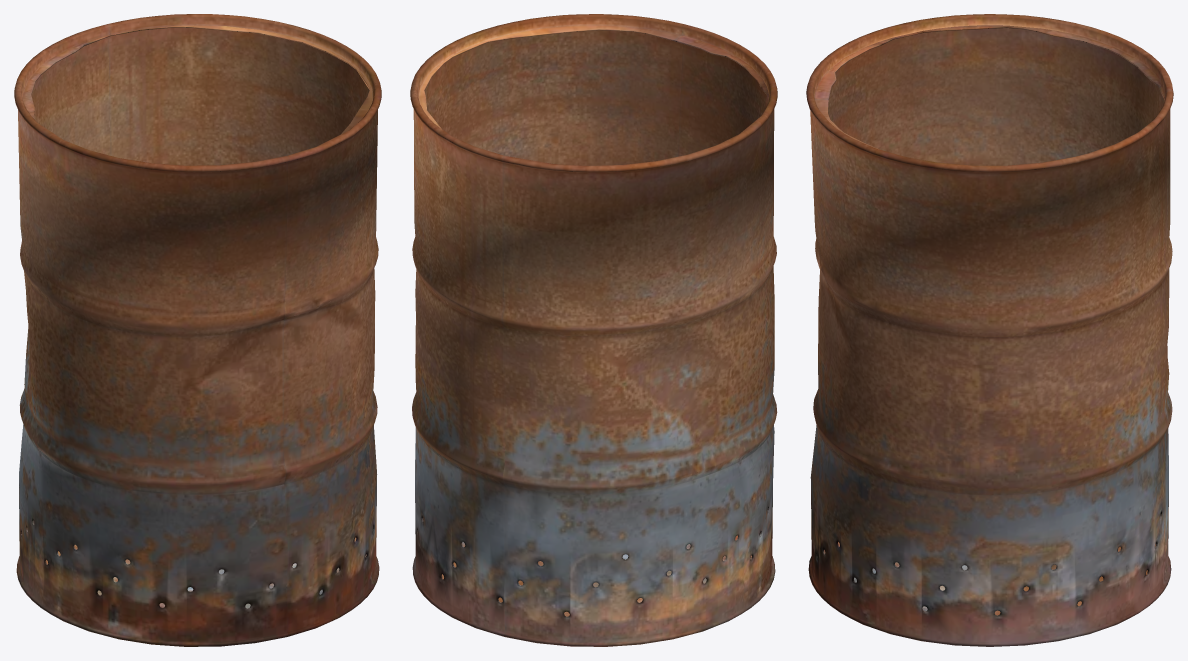
Rendered from stove.glb.
3 renders of one model, left to right at view 1: azimuth 30°, elevation 25°; view 2: azimuth 150°, elevation 25°; view 3: azimuth 270°, elevation 25°, orthographic.
Parts seen in each view (by area): view 1: barrel_stove; view 2: barrel_stove; view 3: barrel_stove.
Part boxes in pixels (left/top/right/bottom): barrel_stove: left=14, top=14, right=381, bottom=646; barrel_stove: left=410, top=14, right=777, bottom=646; barrel_stove: left=806, top=14, right=1173, bottom=646.
Size of the model in its own units: 0.5926 by 0.8556 by 0.5925.
Materials: 1 (1 with a texture image).
